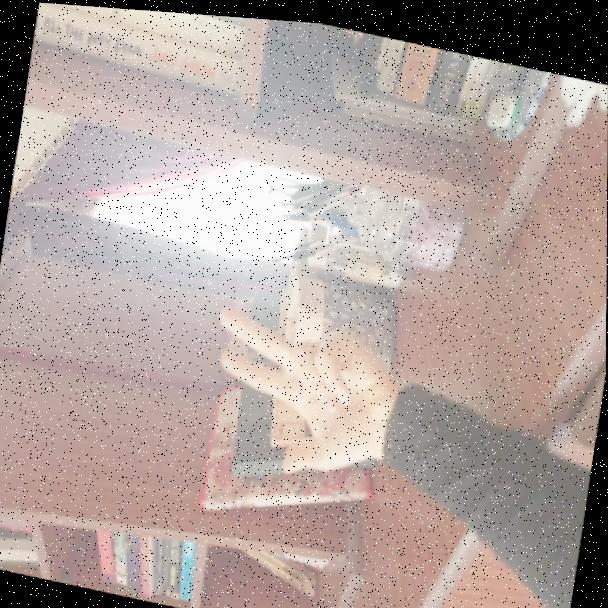three: (184, 250, 450, 527)
